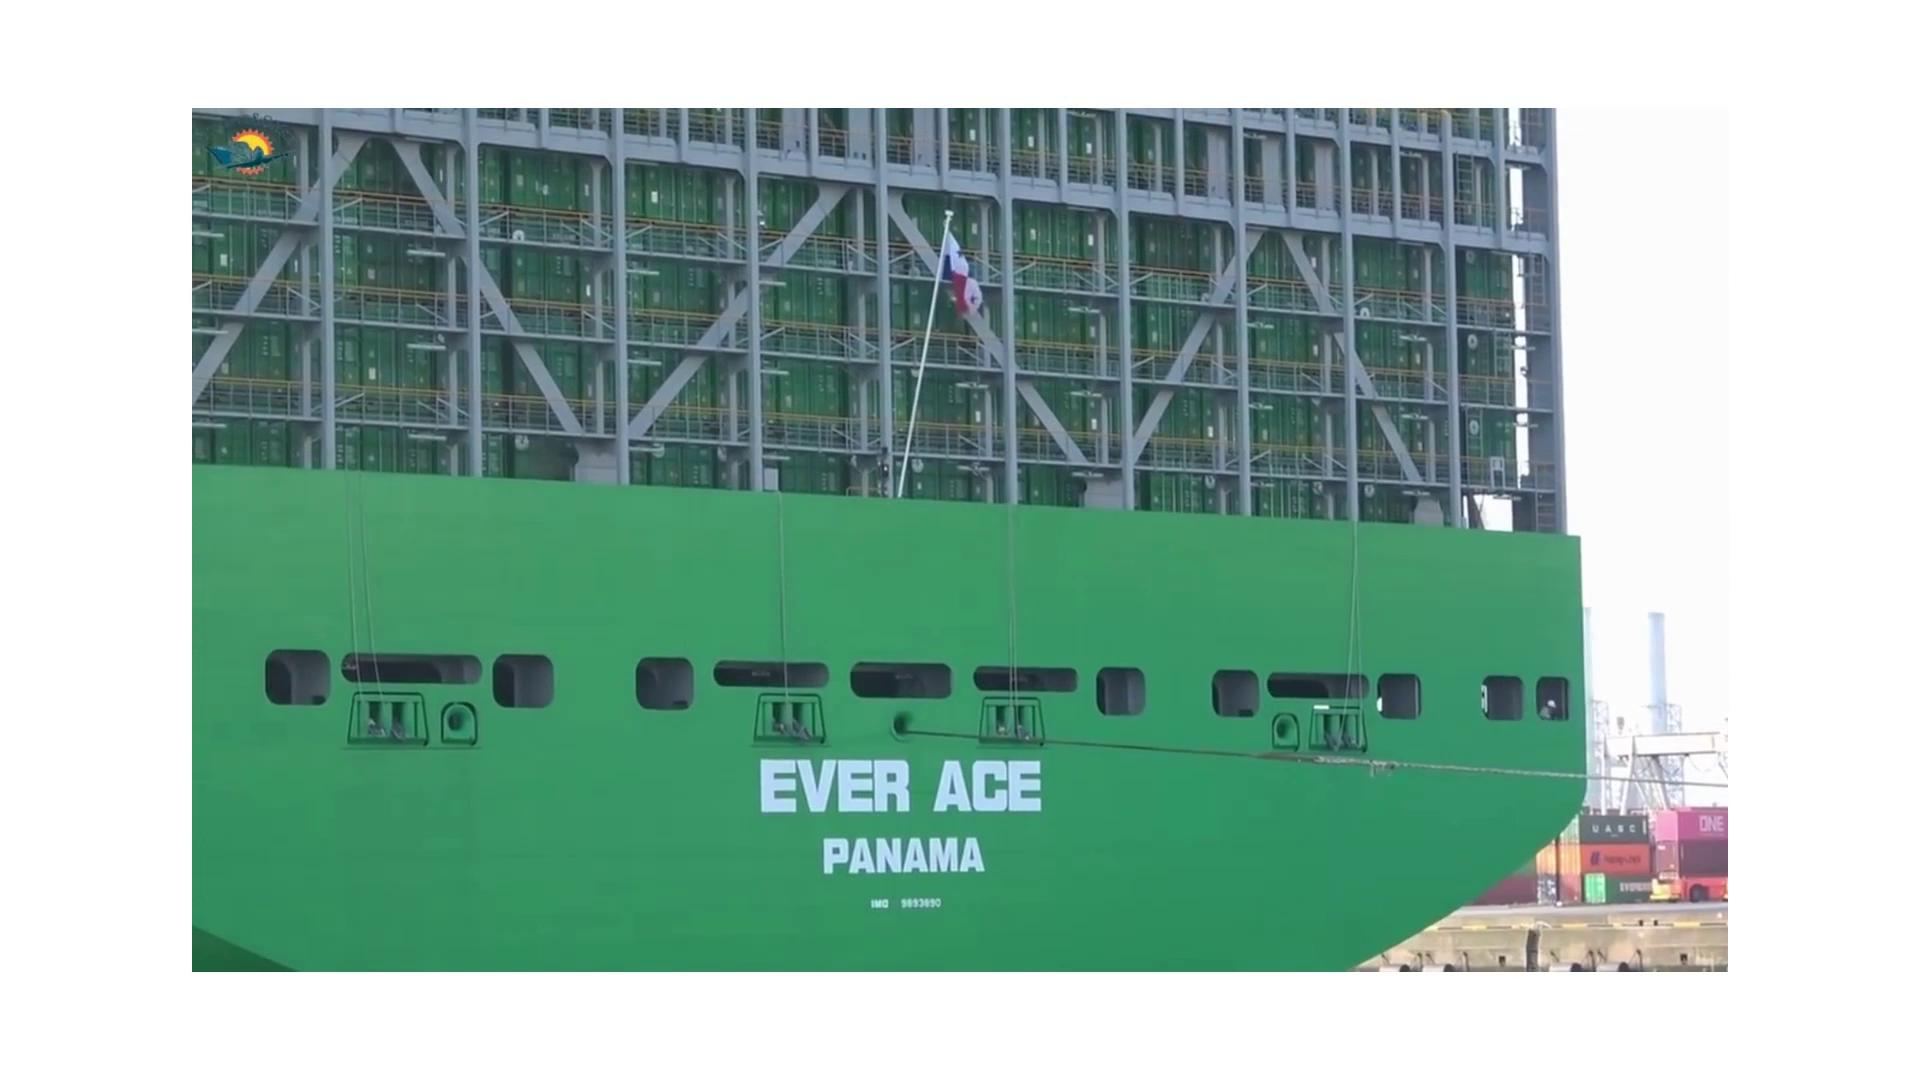OCR: (708, 711, 1069, 916)
